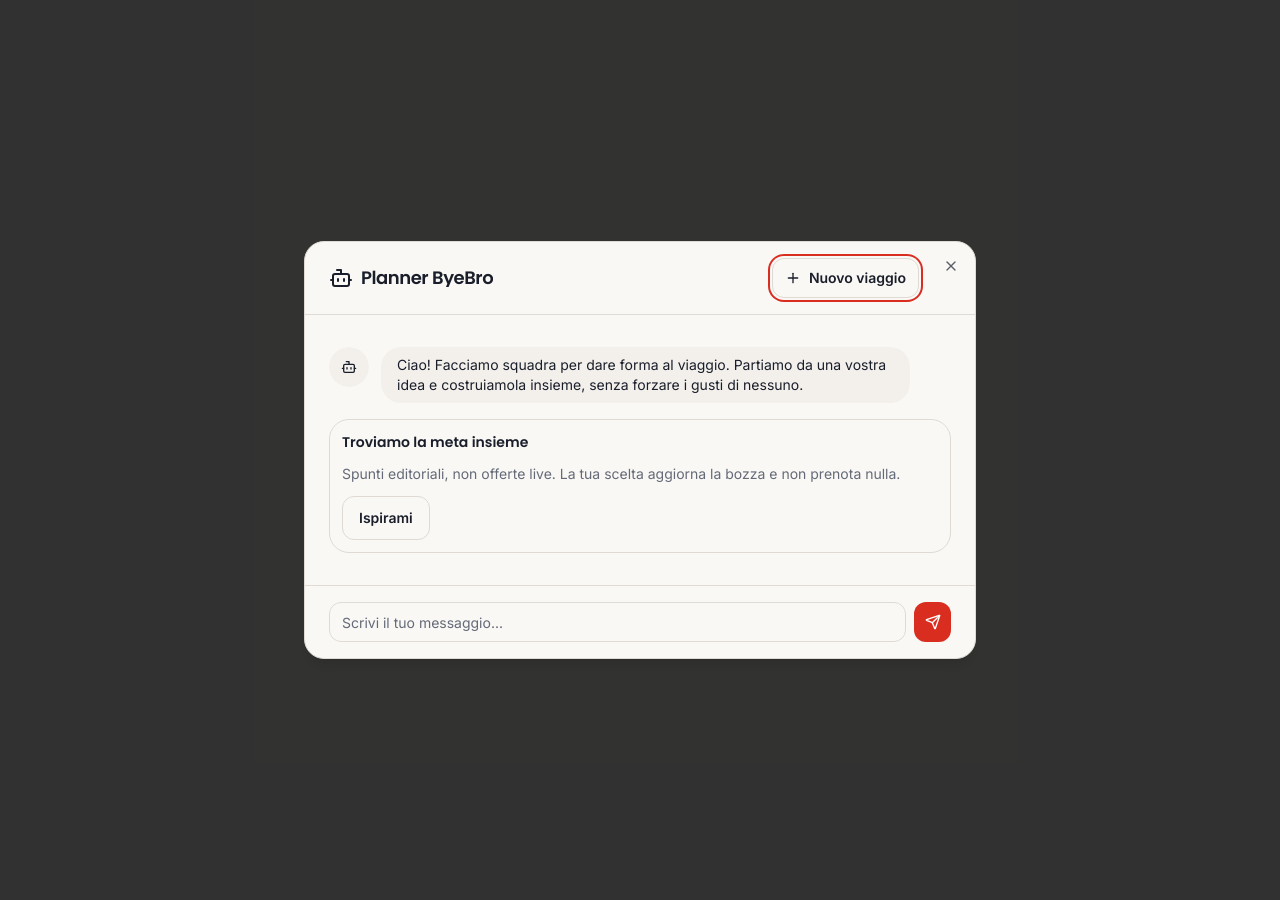
Test case: explicit planner destination choices › preserves the draft and free-text input when an action fails
This screenshot has width=1280, height=900.
Type "Preferisco un'altra città" into the field at (618, 622), box [329, 602, 906, 642]
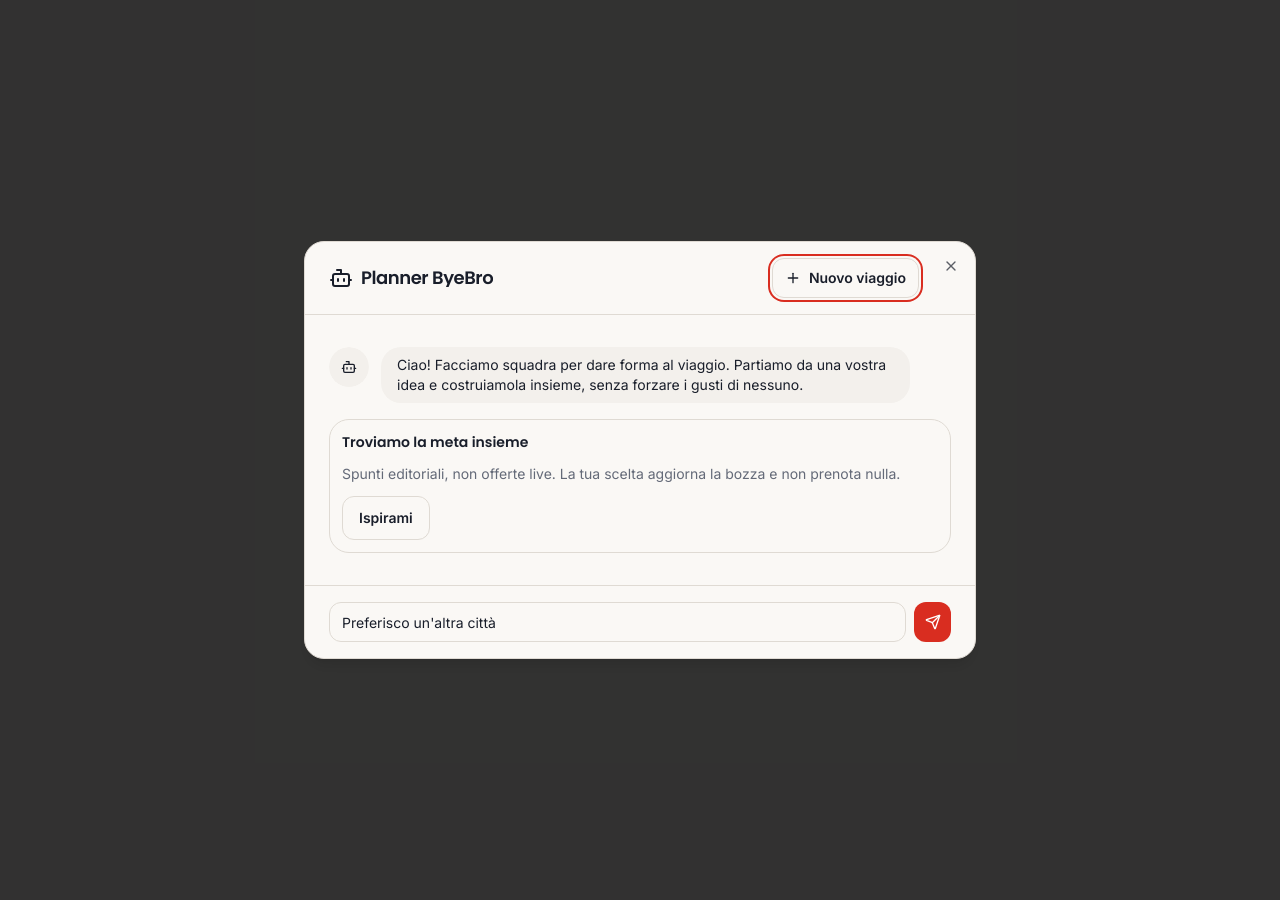
Click the button "Ispirami" at (386, 518), box [342, 496, 430, 540]
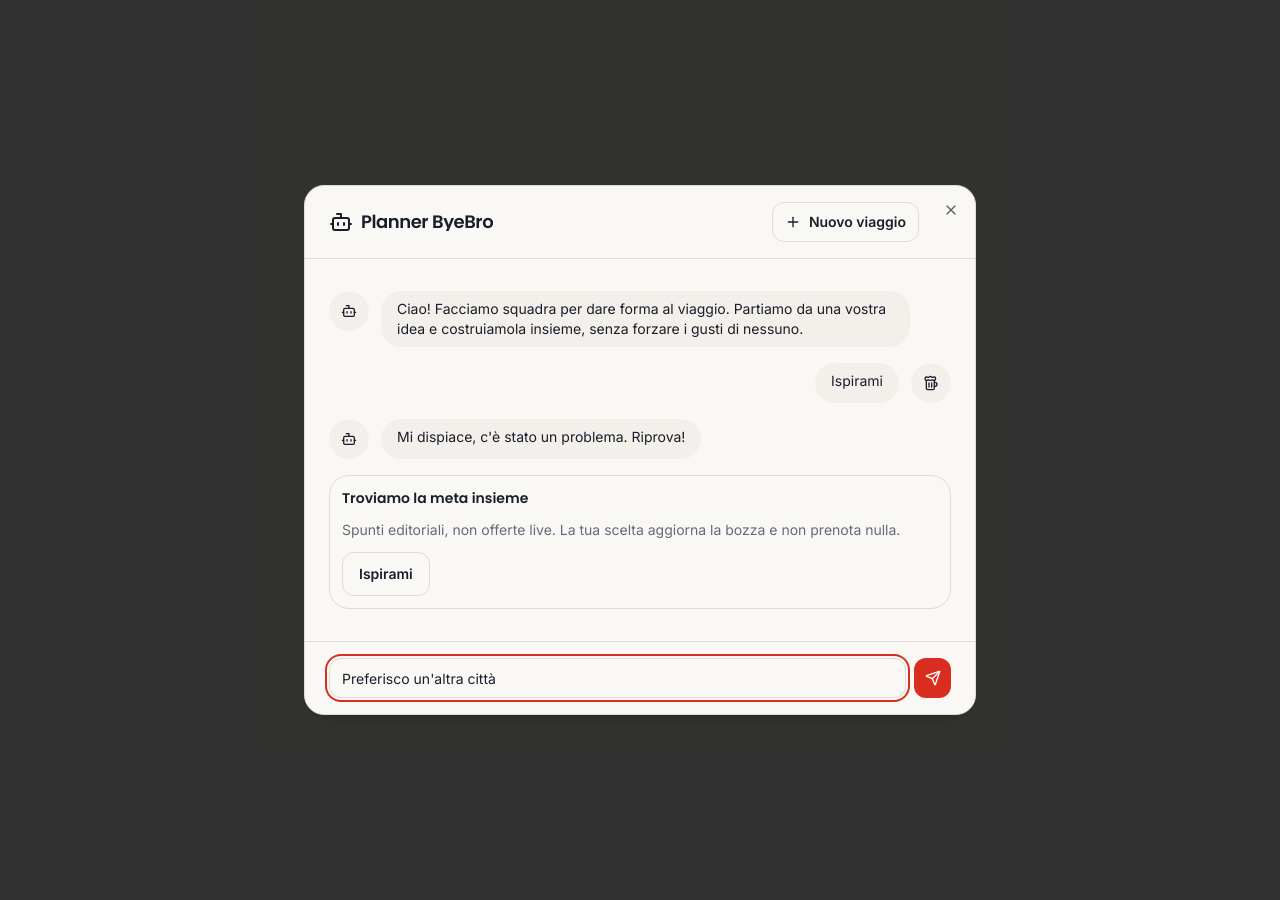
Expected: the button "Ispirami" is enabled, [342, 552, 430, 596]
Expected: the text "Mi dispiace, c'è stato un problema. Riprova!" is shown, [381, 419, 701, 459]
